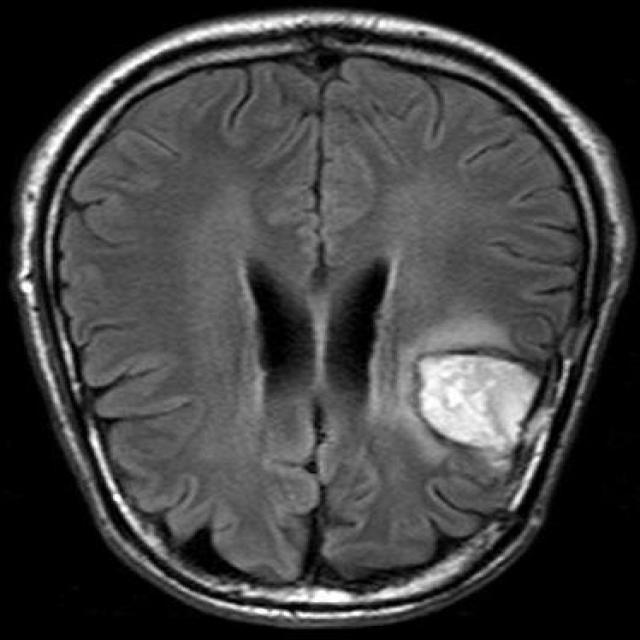Tumor: (408, 342, 552, 462)
